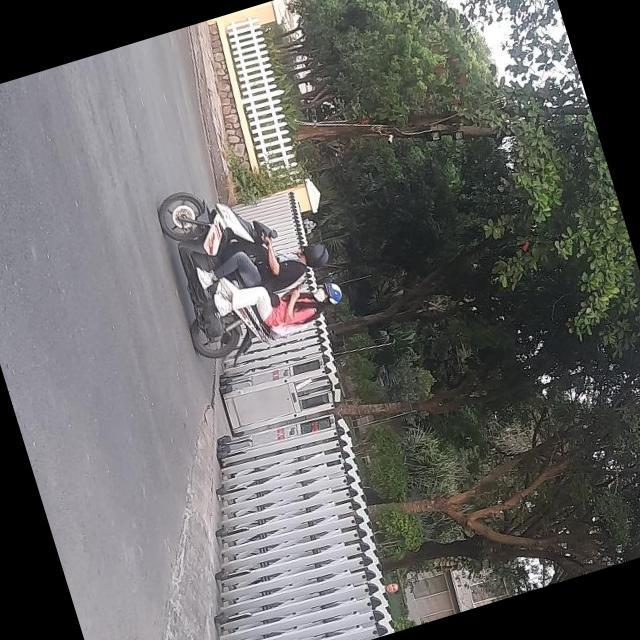WITH_HELMET: (299, 237, 335, 271), (318, 278, 348, 308)
